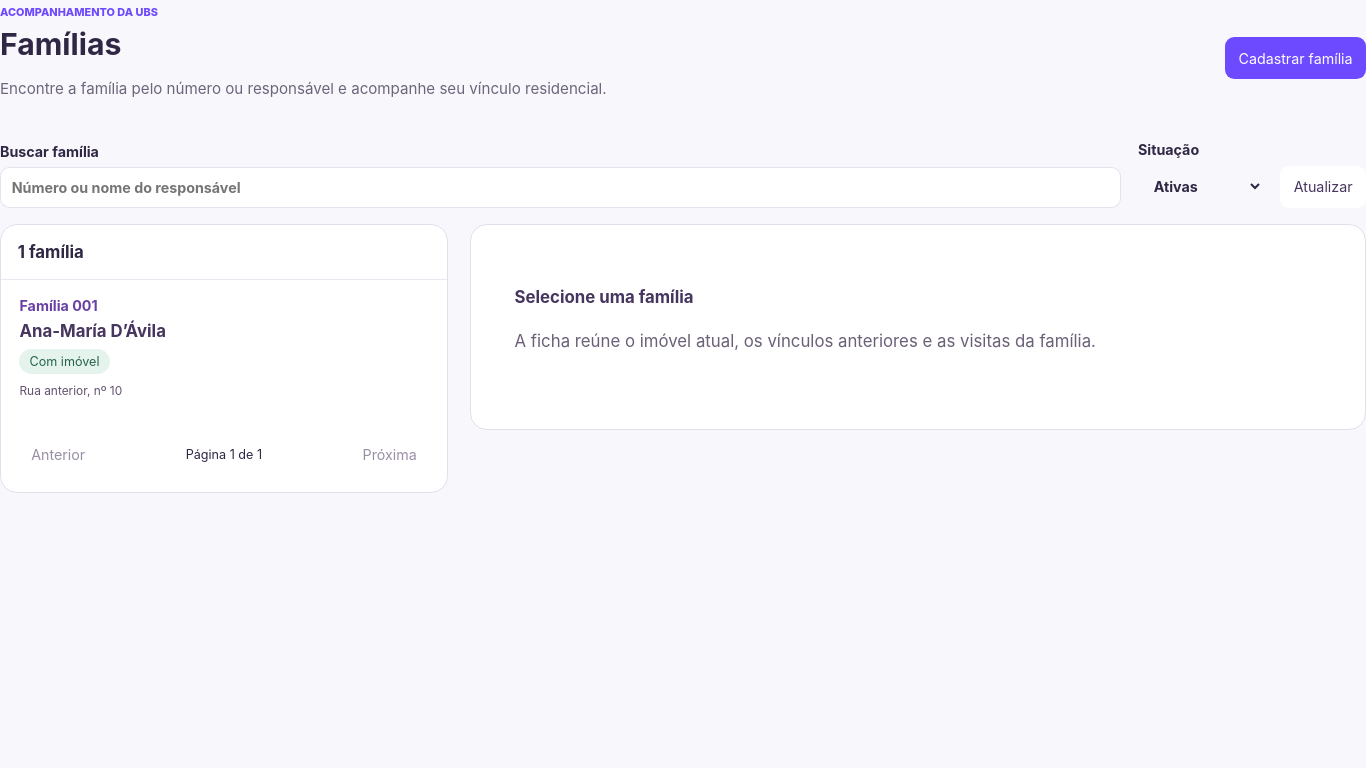
Test: Cadastro e acompanhamento de famílias › explica o impacto da mudança e mantém a residência quando houver conflito
Click the button "Família 001 Ana-María D’Ávila Com imóvel Rua anterior, nº 10". click: (46, 305)
box: [1, 280, 447, 416]
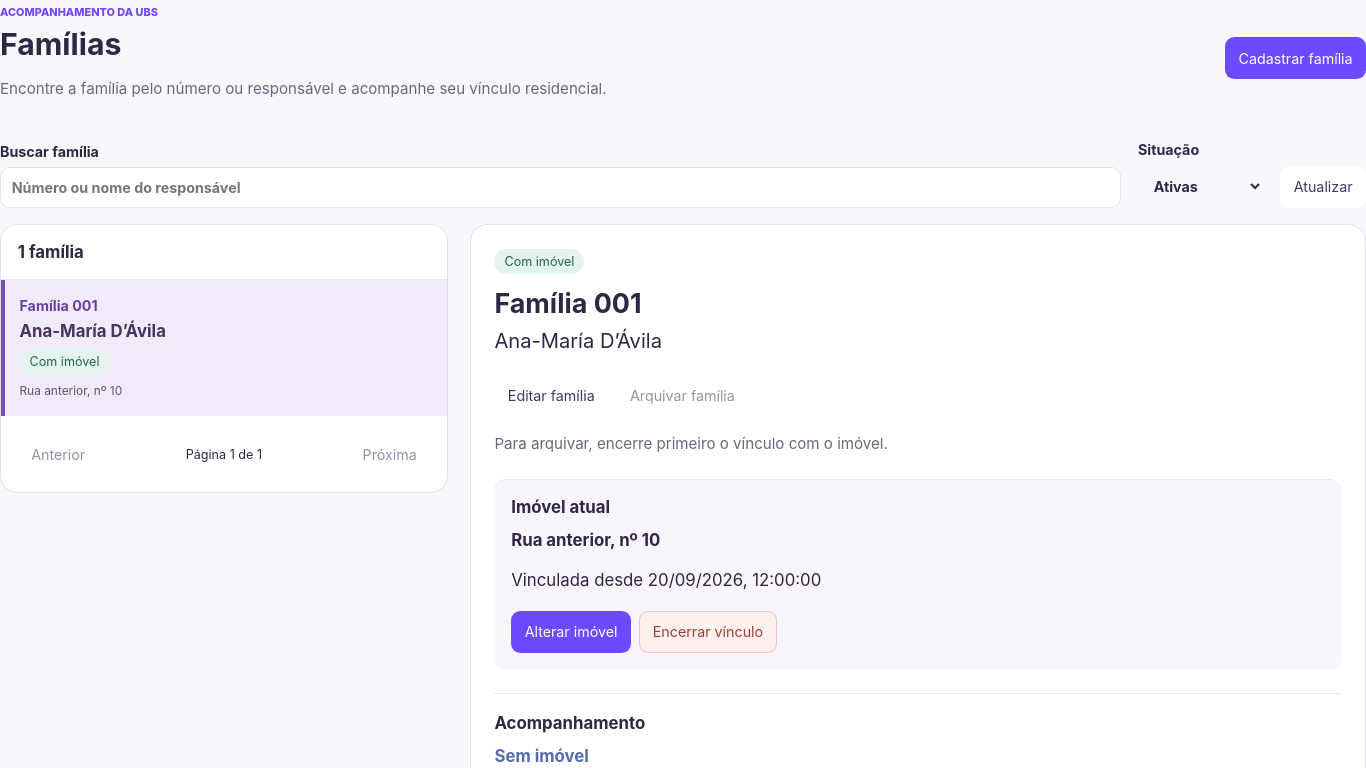
expect the heading "Família 001" is shown: met, box [494, 287, 642, 319]
Click the button "Alterar imóvel". click: (571, 632)
box: [511, 611, 631, 653]
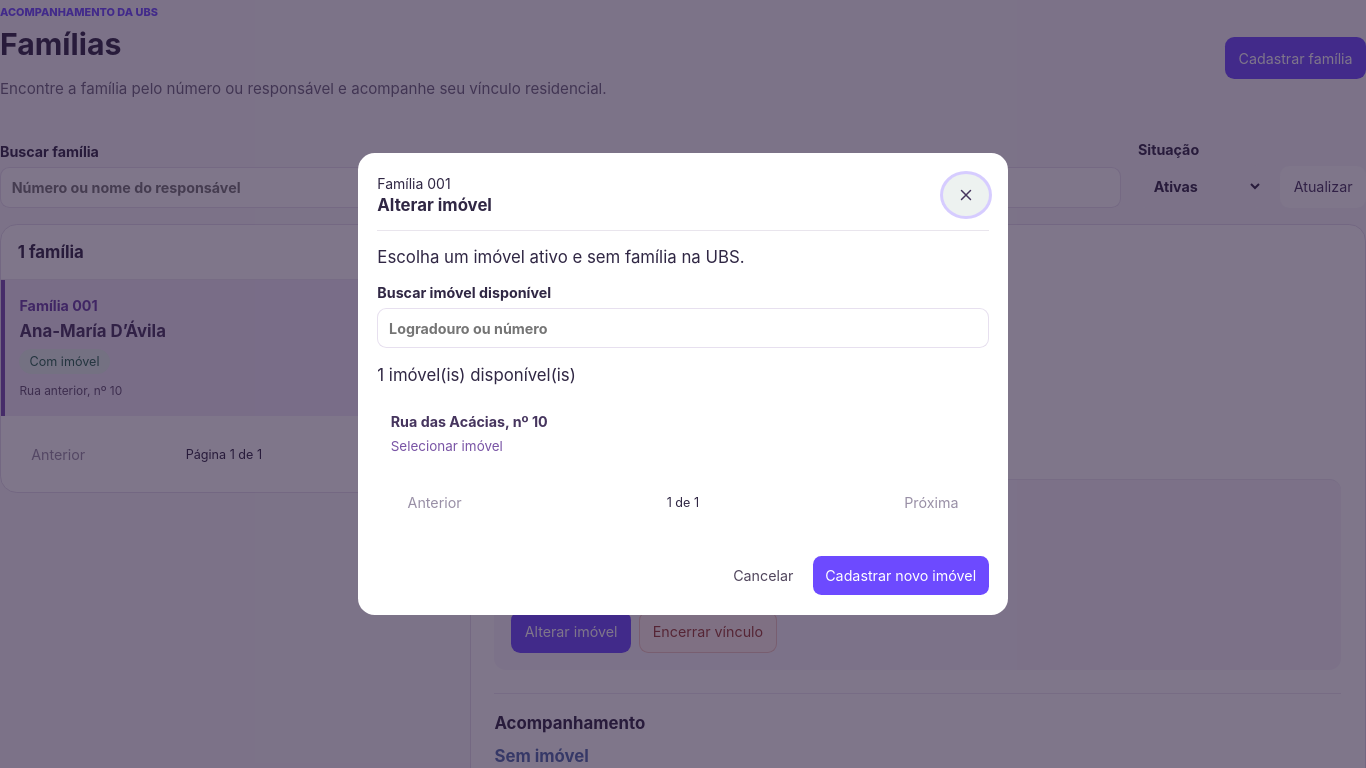
Click the button "Rua das Acácias, nº 10 Selecionar imóvel". click: (448, 421)
box: [377, 402, 989, 465]
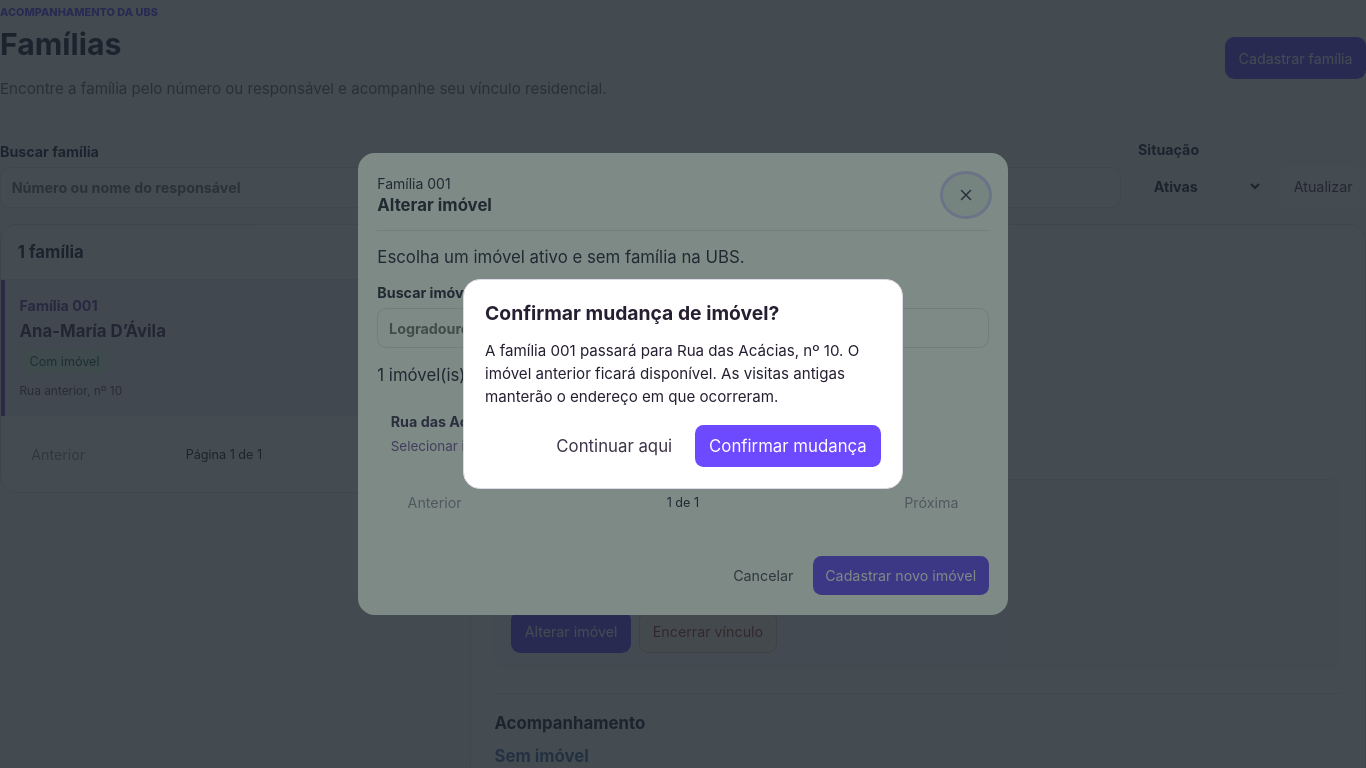
expect the text "As visitas antigas manterão o endereço" is shown: met, box [485, 341, 859, 406]
Click the button "Confirmar mudança". click: (788, 446)
box: [695, 425, 881, 467]
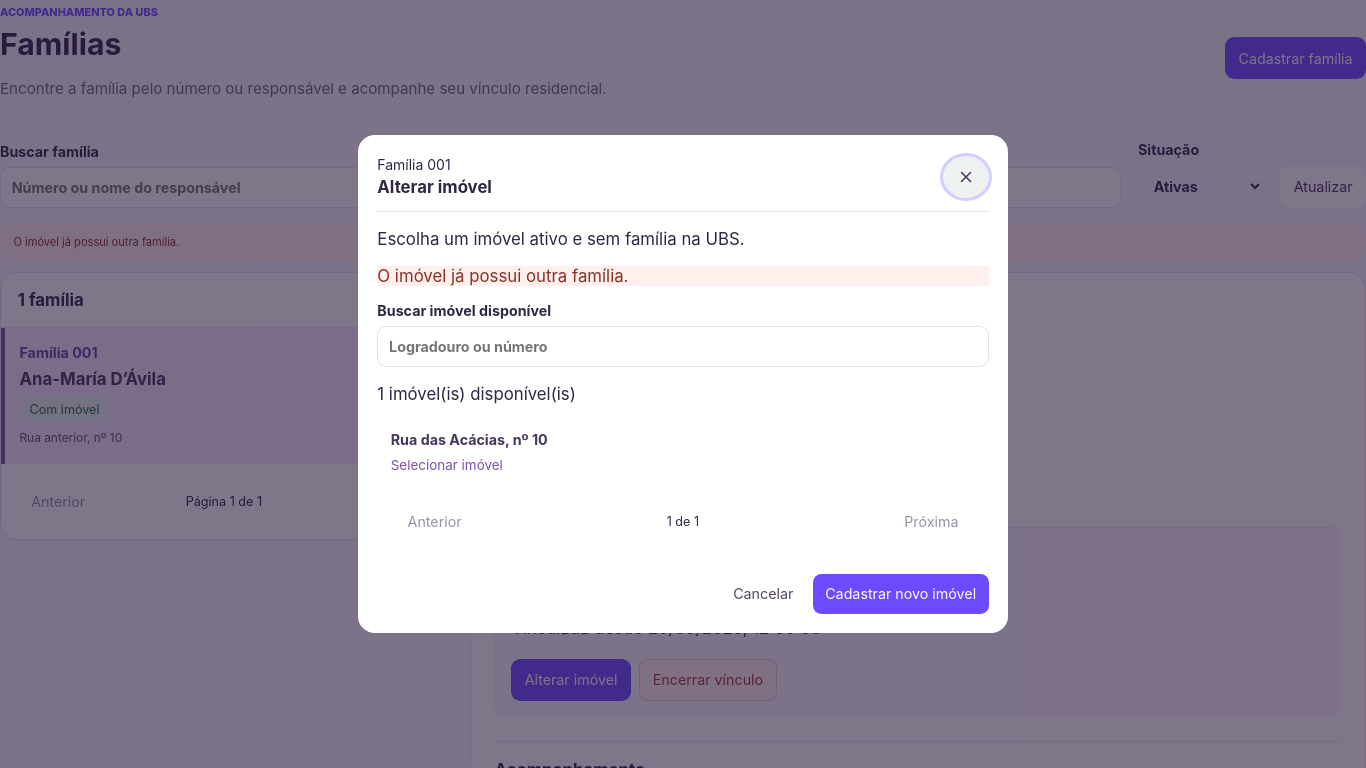
expect the 2nd message "O imóvel já possui outra família." is shown: met, box [377, 266, 989, 286]
